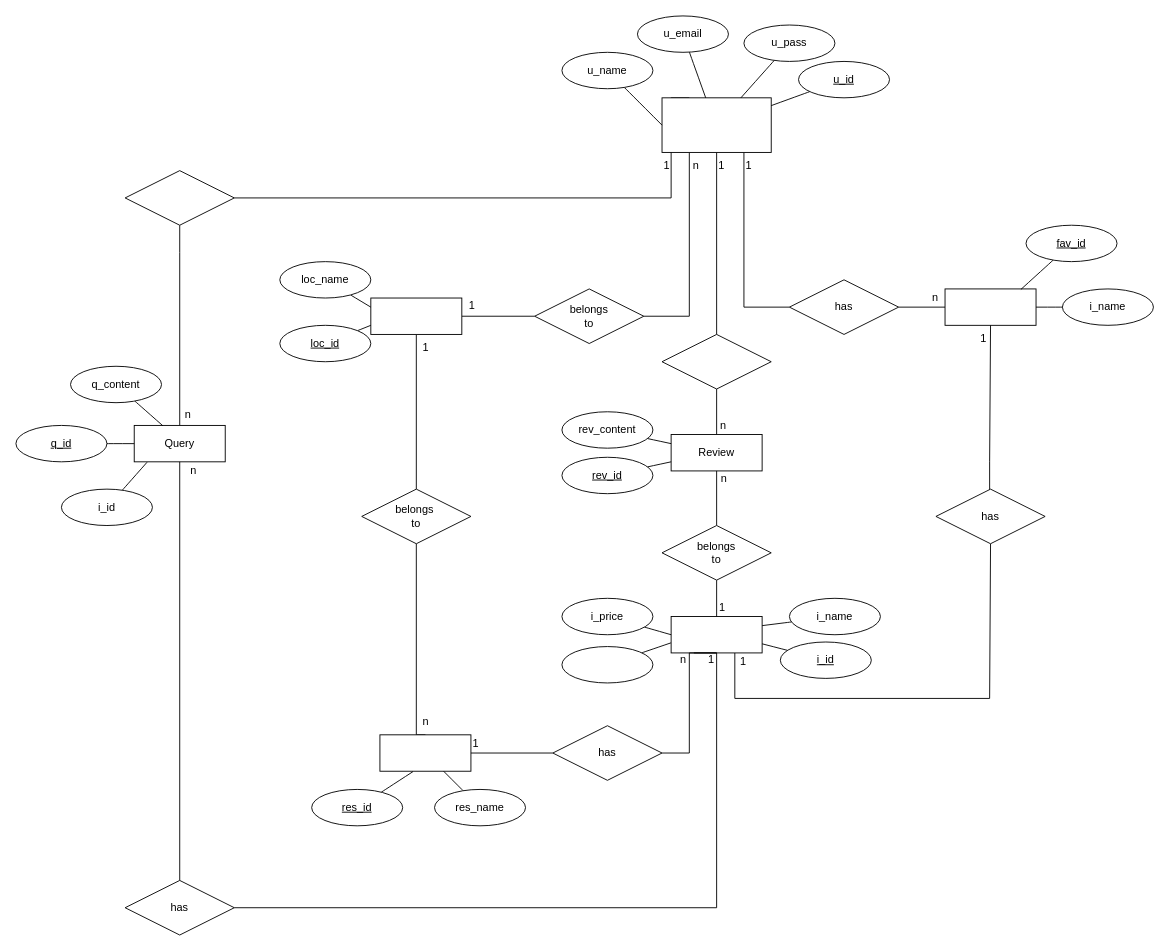
This 1169x951 diagram has some shape labels left out. The box of each missing label's shape, as (x1, y1, x2, y2) in pixels:
Favourite: (944, 288, 1036, 325)
i_catogory: (561, 646, 653, 683)
Item: (670, 616, 762, 653)
Location: (370, 297, 462, 334)
Restaurant: (379, 734, 471, 771)
submits: (124, 170, 234, 225)
User: (661, 97, 771, 152)
writes: (661, 334, 771, 389)
